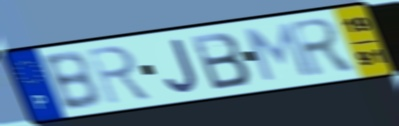B: (39, 48, 104, 113), (188, 30, 253, 92)
J: (163, 36, 202, 94)
M: (241, 21, 315, 84)
R: (287, 16, 361, 80), (84, 43, 155, 107)
